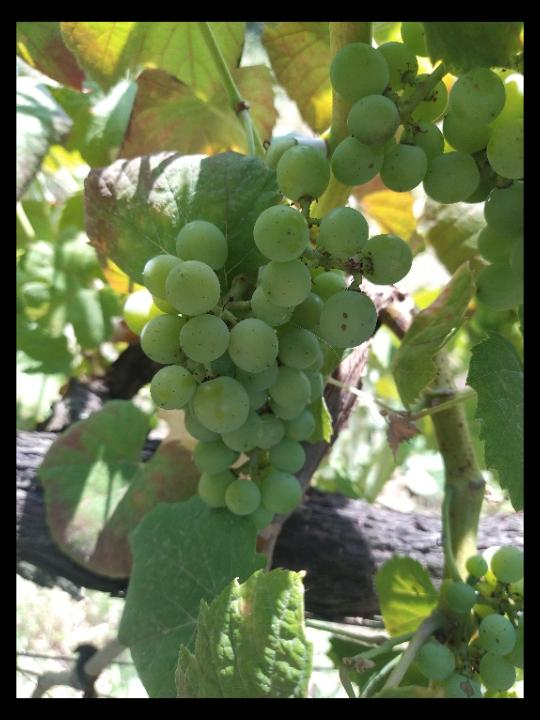grape: (123, 140, 415, 532)
